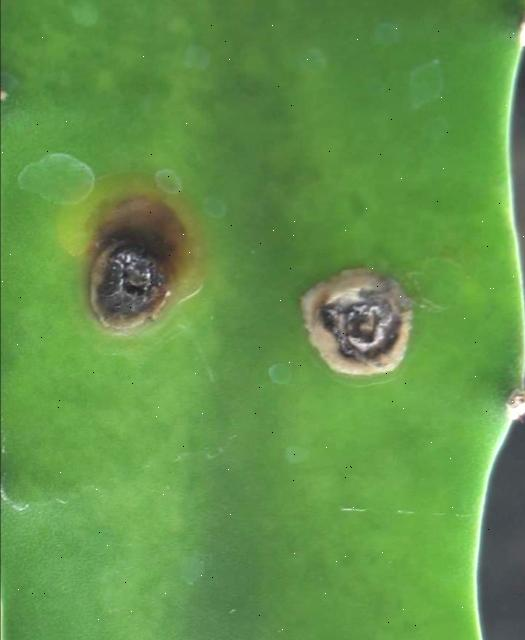stemcanker: (67, 178, 198, 339), (299, 266, 422, 378)
